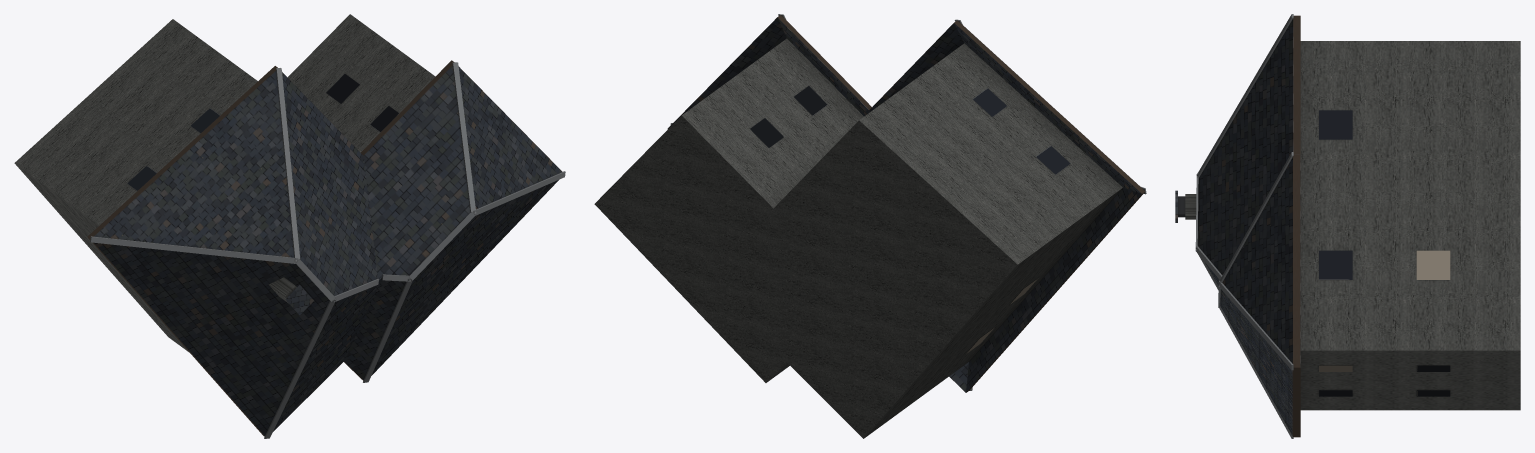
Rendered from house_b0272.obj.
3 views of the same model, side by side, from view 1: azimuth 30°, elevation 25°; view 2: azimuth 150°, elevation 25°; view 3: azimuth 270°, elevation 25° (orthographic). The views are drawn at different scales.
Visible parts, largest first — view 1: house_b0272; view 2: house_b0272; view 3: house_b0272.
Part boxes in pixels (x1,y1,x2,y2): house_b0272: [14, 14, 565, 438]; house_b0272: [594, 14, 1146, 438]; house_b0272: [1175, 14, 1520, 438].
Size of the model in its own units: 18.78 by 13.91 by 10.6.
1 material, 1 textured.
